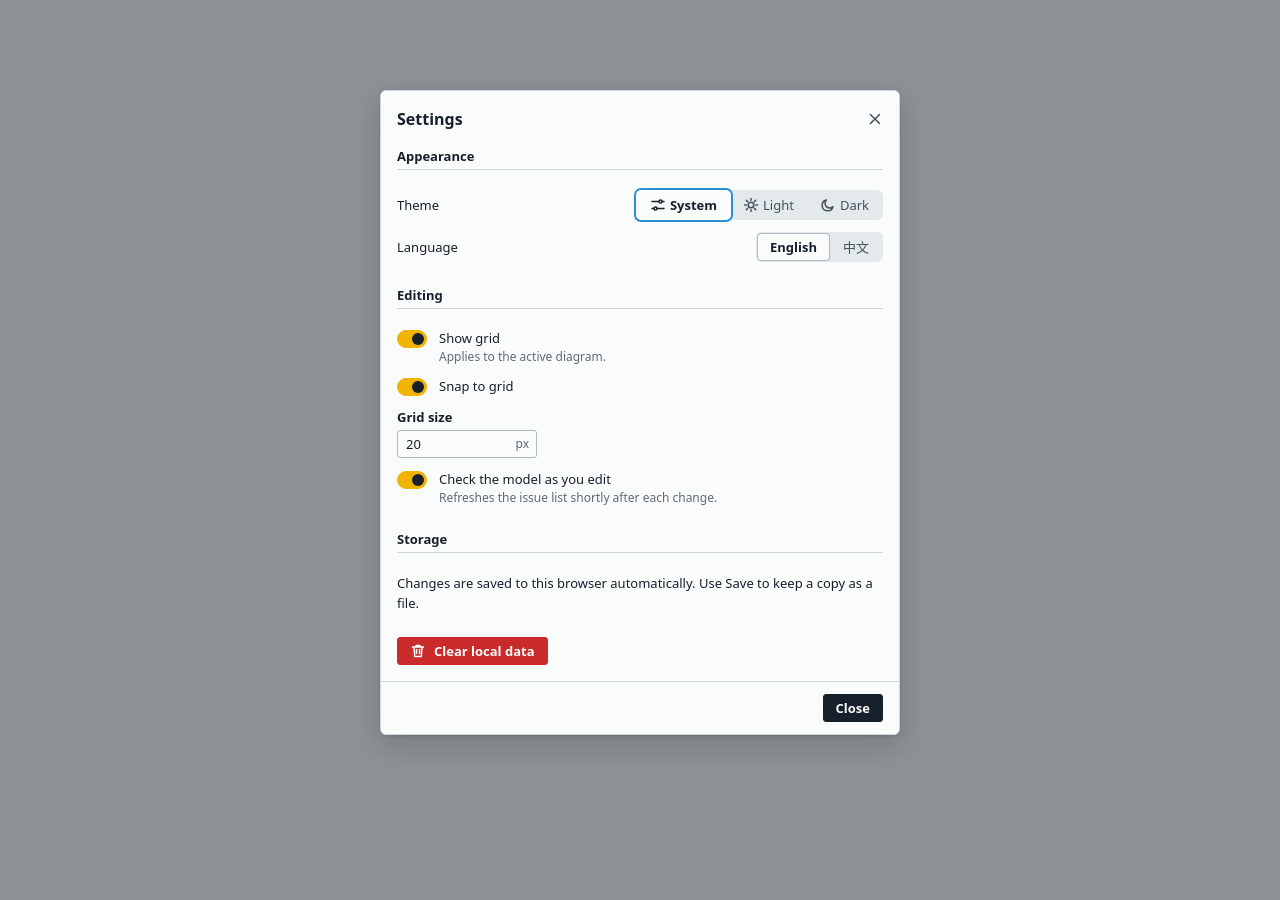
Scenario: dialogs and commands › settings dialog changes theme and language live and the grid through ops
Step 1. Click the radio button labelled "Dark" → (844,205), box 808,192 -> 881,218
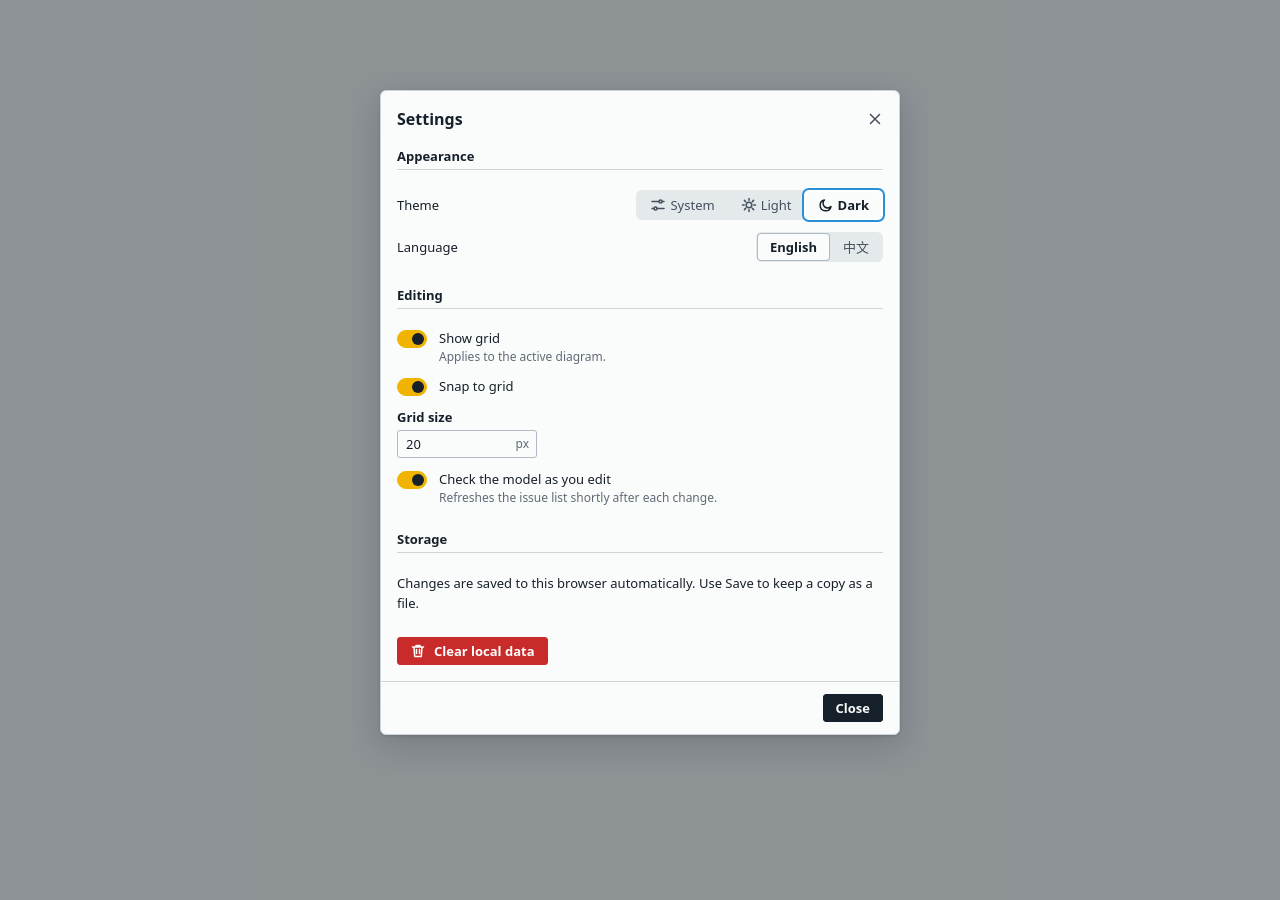
Step 2. Click the switch named "Snap to grid" next to "Snap to grid" → (412,387), box 397,378 -> 427,396
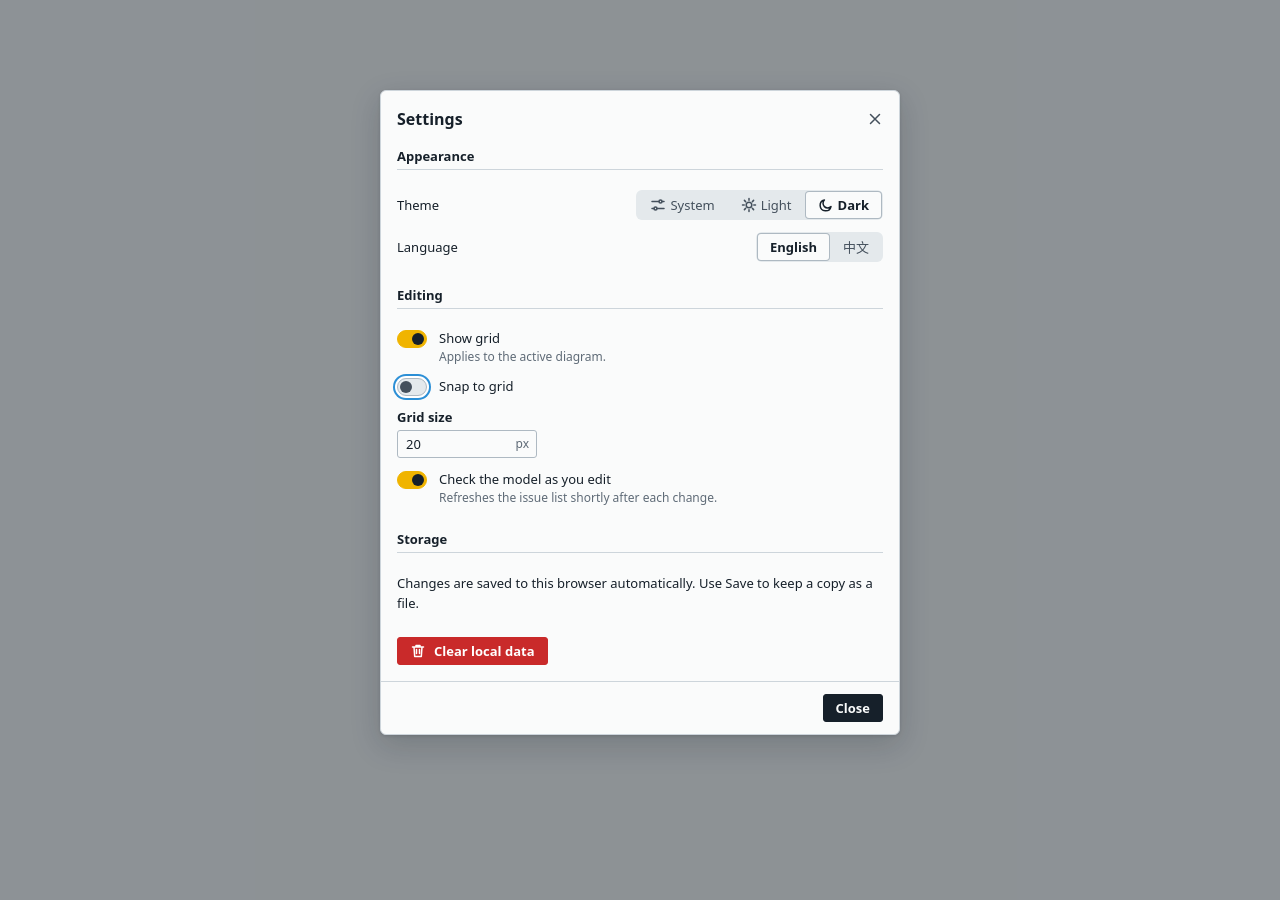
Step 3. Click the radio button with aria-label "中文 (Chinese)" → (856,247), box 831,234 -> 881,260
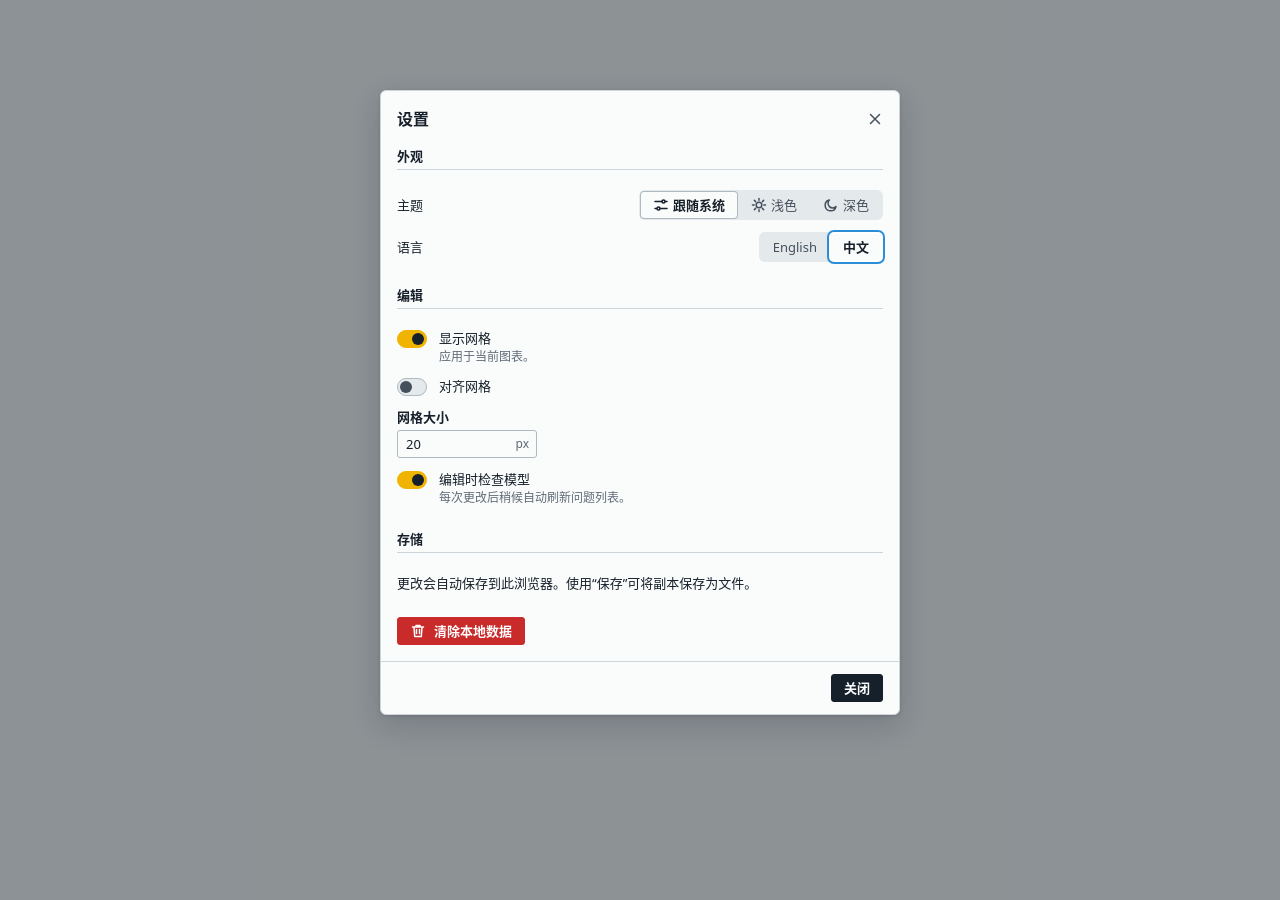
Now the dialog "设置" is shown, box 380,90 -> 900,715
